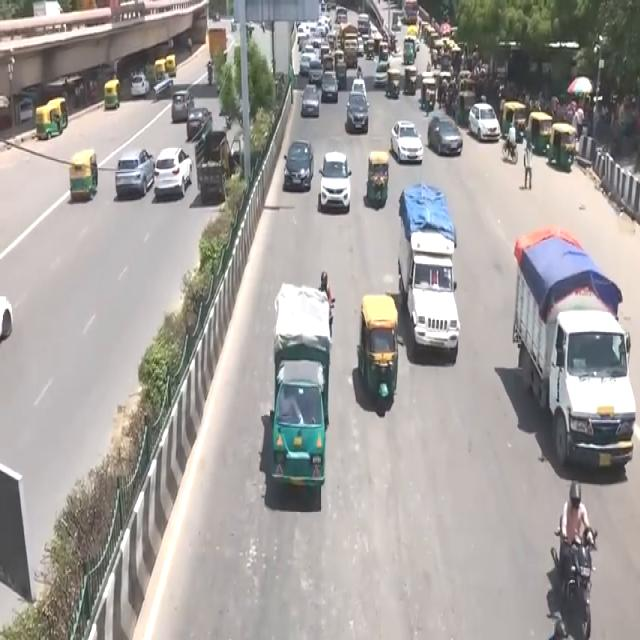MOTORCYCLE: (564, 532, 596, 640)
TRUCK: (516, 239, 636, 485), (402, 188, 459, 364)
